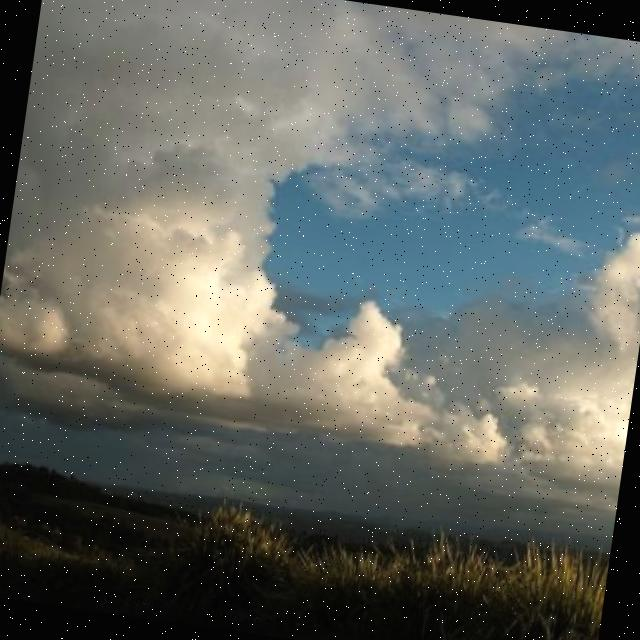Cu: (1, 19, 640, 484)
